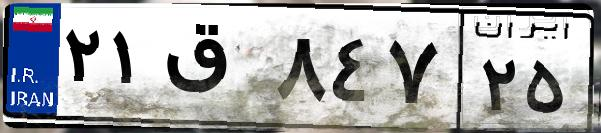1: (110, 28, 158, 98)
2: (57, 26, 110, 100), (475, 38, 525, 113)
4: (330, 28, 385, 110)
5: (525, 38, 570, 115)
7: (385, 28, 445, 110)
8: (270, 28, 330, 110)
ق: (158, 20, 270, 120)
